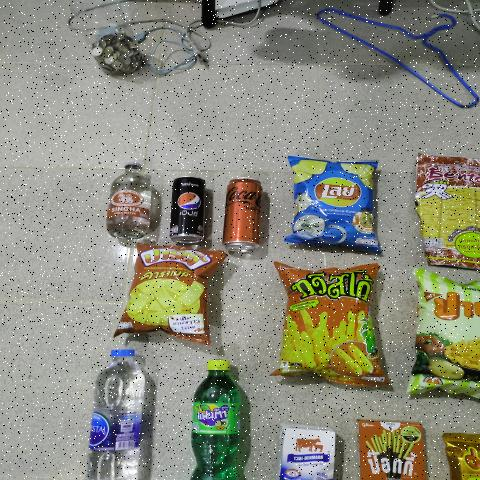bento_red: (419, 152, 480, 261)
coke_red: (223, 176, 258, 250)
crystal: (76, 346, 152, 480)
fanta_green: (191, 358, 250, 480)
lay_blue: (297, 164, 369, 242)
paprika: (418, 276, 480, 390)
party_red: (136, 245, 210, 334)
pepsi_black: (168, 175, 208, 243)
pokki: (356, 418, 428, 480)
singha_soda: (104, 160, 153, 236)
thai_denmark: (282, 424, 340, 480)
twisco: (280, 262, 378, 377)
